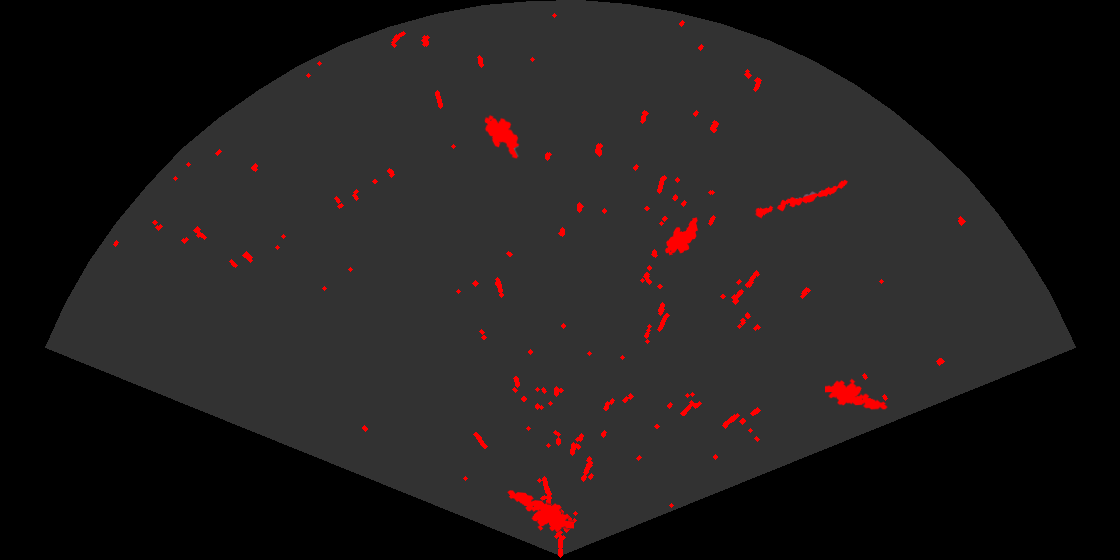AUV: (483, 113, 521, 160), (663, 216, 700, 257)
chain: (753, 178, 849, 220)
frogman: (506, 489, 574, 533), (825, 377, 889, 411)
